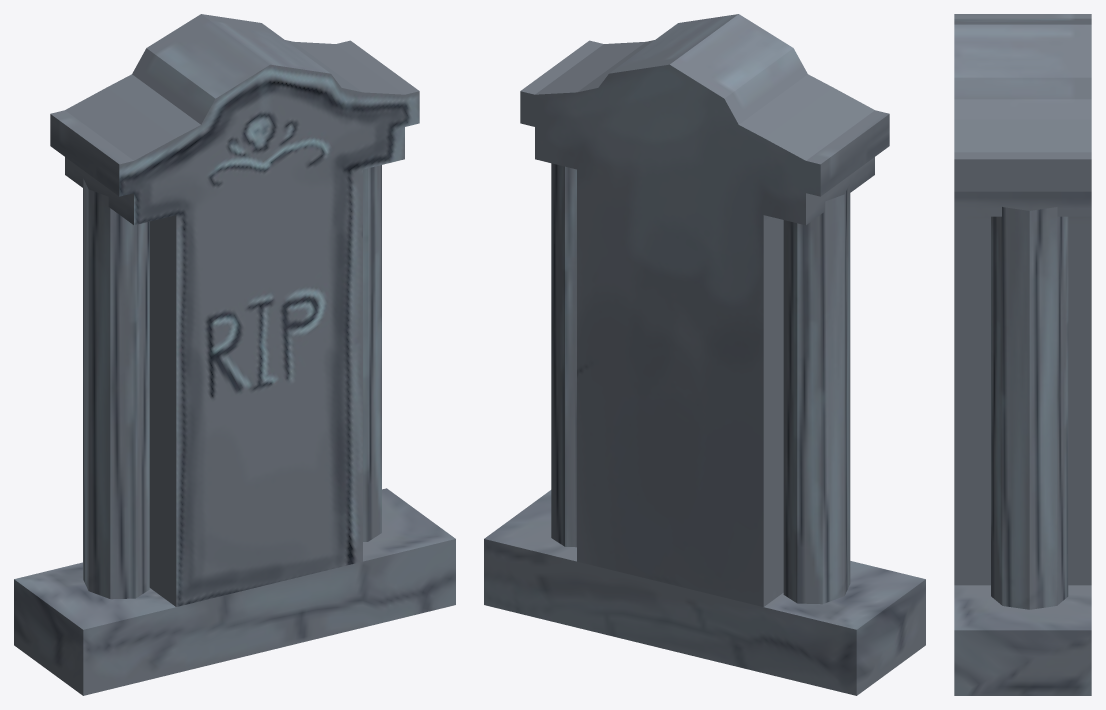
File: lapide3.fbx
3 renders of one model, left to right at view 1: azimuth 30°, elevation 25°; view 2: azimuth 150°, elevation 25°; view 3: azimuth 270°, elevation 25°, orthographic.
Visible parts, largest first — view 1: lapide3; view 2: lapide3; view 3: lapide3.
Boxes of the visible parts, box(x1,y1,x2,y2) form: lapide3: box(14, 14, 455, 695); lapide3: box(484, 14, 925, 695); lapide3: box(954, 14, 1091, 695).
Bounding box in the file's own units: 310 × 466 × 99.77.
